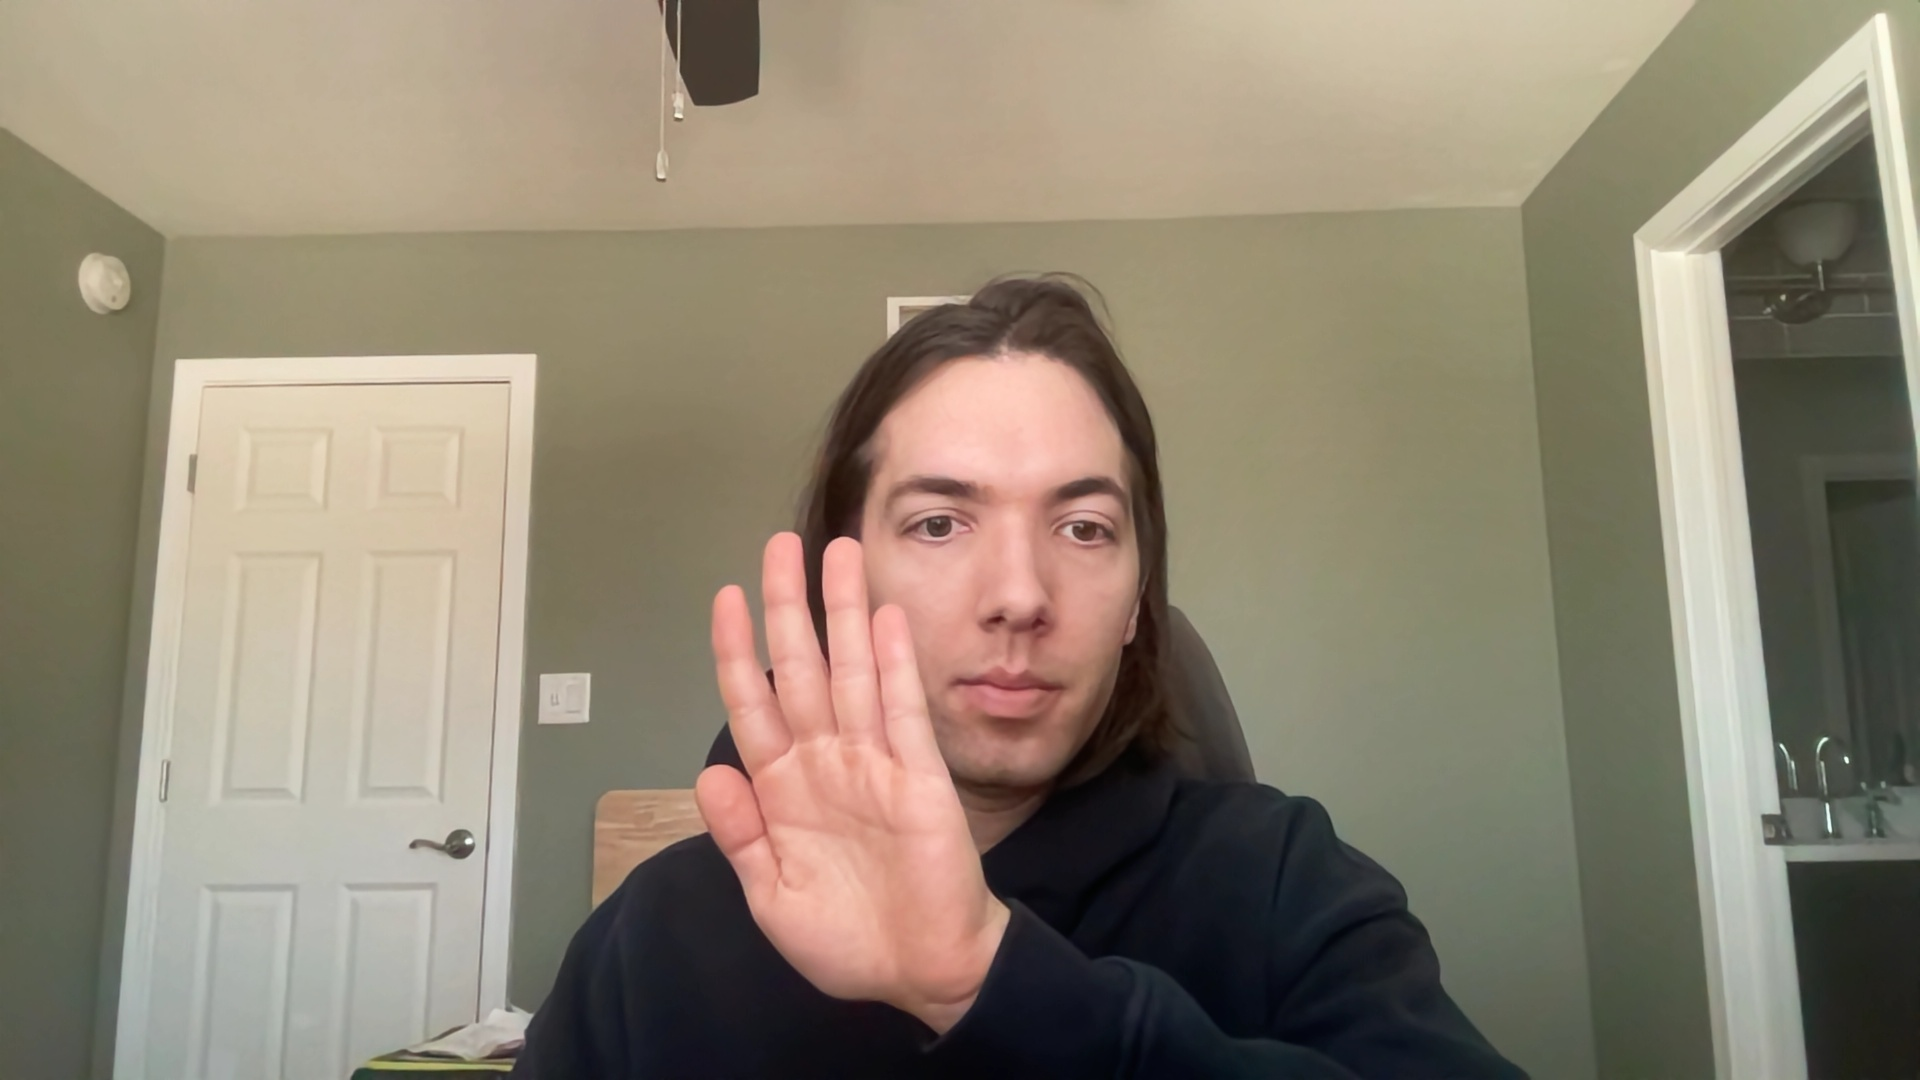Hello: (659, 524, 1048, 1039)
